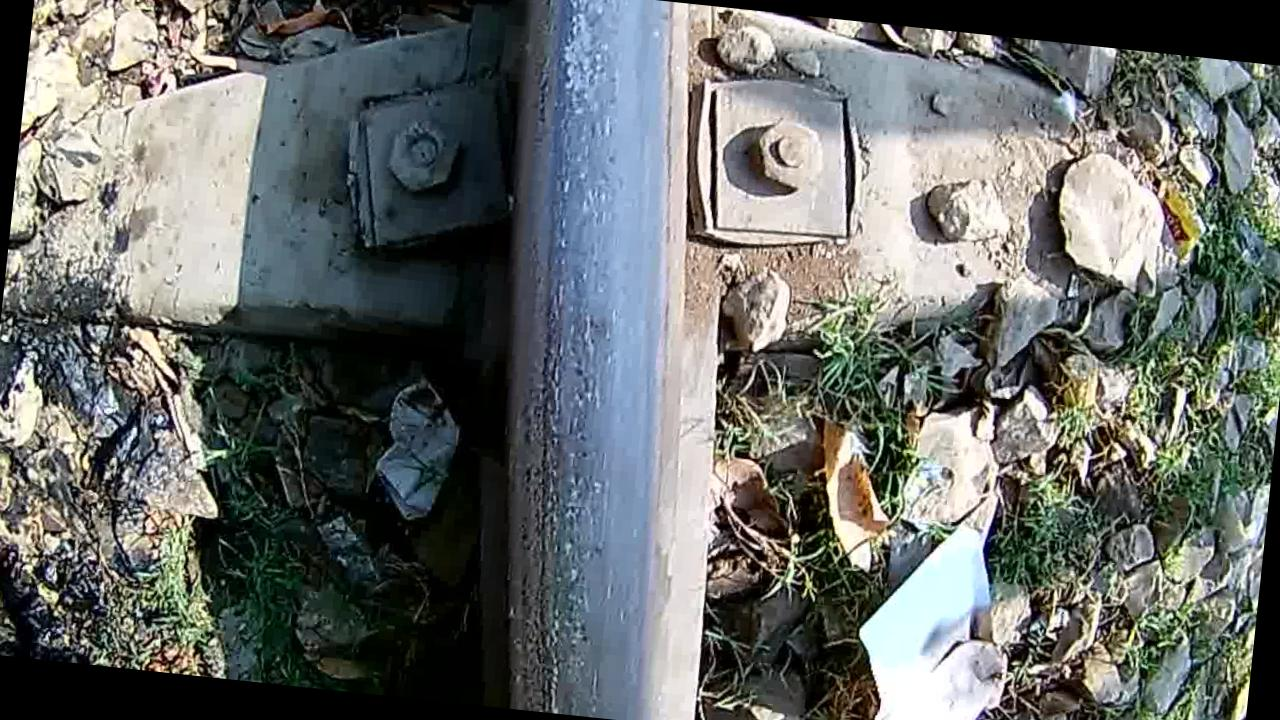clip_missing: (478, 0, 698, 719)
